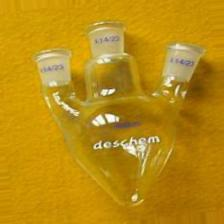Pear shaped flask: (29, 16, 202, 207)
